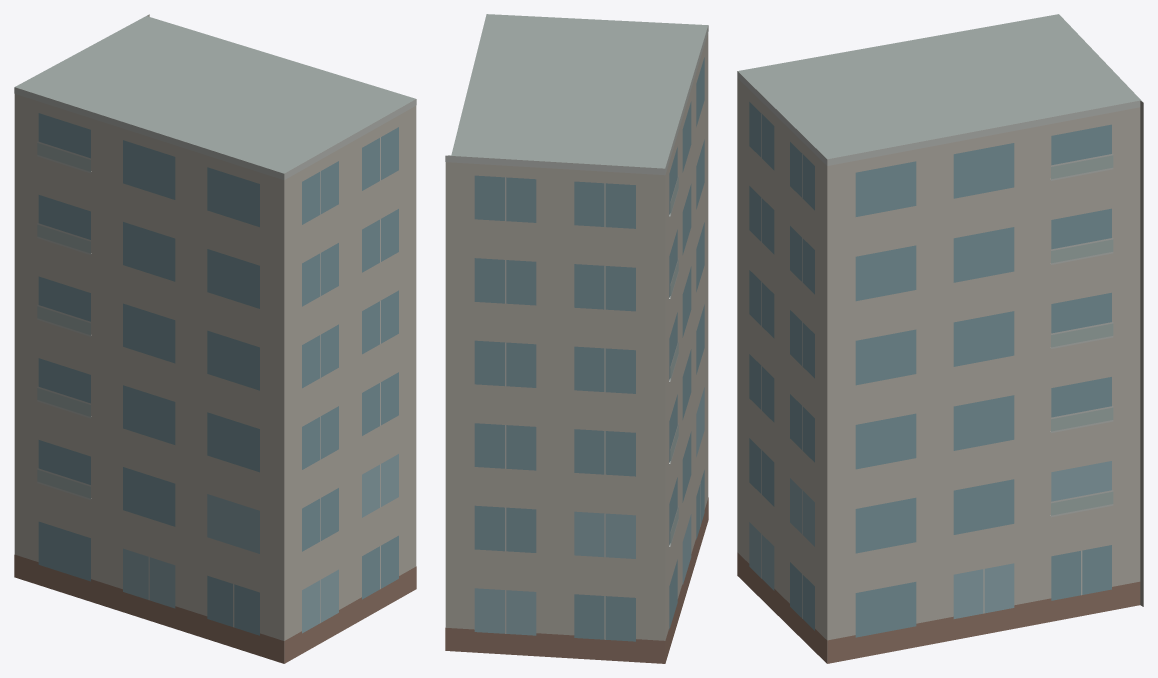
File: survey-upis-32960670.glb
3 views of the same model, side by side, from view 1: azimuth 30°, elevation 25°; view 2: azimuth 150°, elevation 25°; view 3: azimuth 270°, elevation 25° (orthographic). The views are drawn at different scales.
Parts seen in each view (by area): view 1: survey-upis-32960670.tmp; view 2: survey-upis-32960670.tmp; view 3: survey-upis-32960670.tmp.
Boxes of the visible parts, box(x1,y1,x2,y2) form: survey-upis-32960670.tmp: box(14, 14, 416, 663); survey-upis-32960670.tmp: box(445, 14, 708, 663); survey-upis-32960670.tmp: box(737, 14, 1143, 663).
Size of the model in its own units: 11.32 by 18.3 by 13.36.
